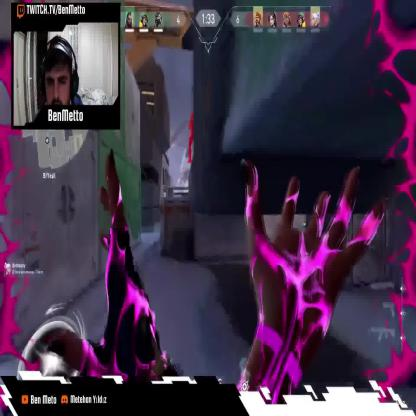enemy: (188, 110, 199, 163)
enemy_head: (190, 111, 195, 119)
